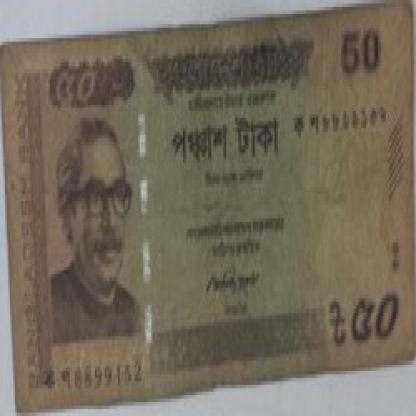Fifty taka: (348, 284, 401, 350), (48, 56, 102, 114)
